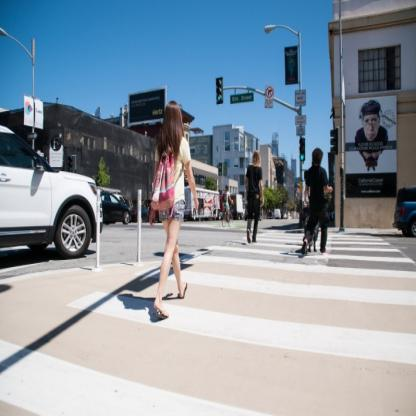Crosswalk: (1, 240, 416, 412)
